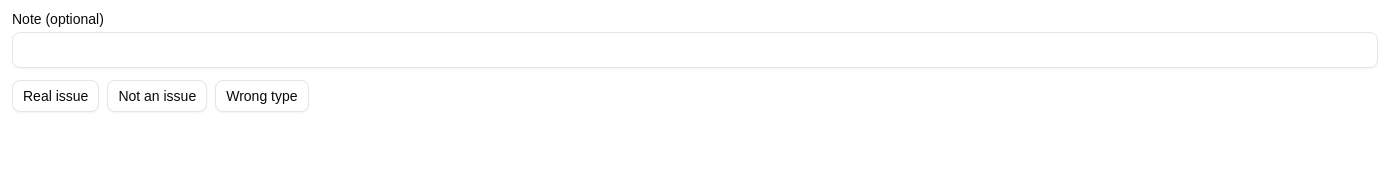
Test: VerdictButtons › shows the server's refusal as is and keeps the buttons usable
Click the button "Real issue" at [56, 96], box [12,80,99,112]
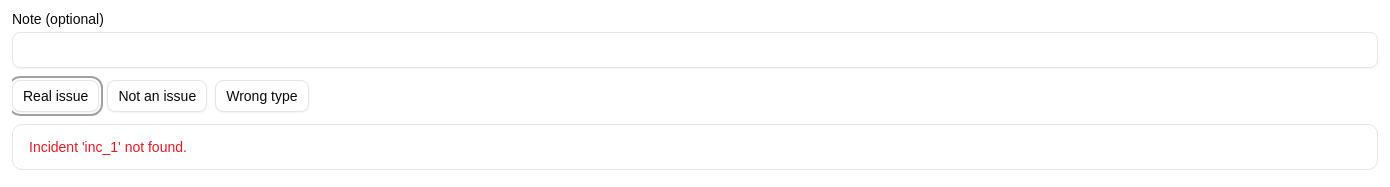
Expected: the text "Incident 'inc_1' not found." is shown, [29,139,187,155]
